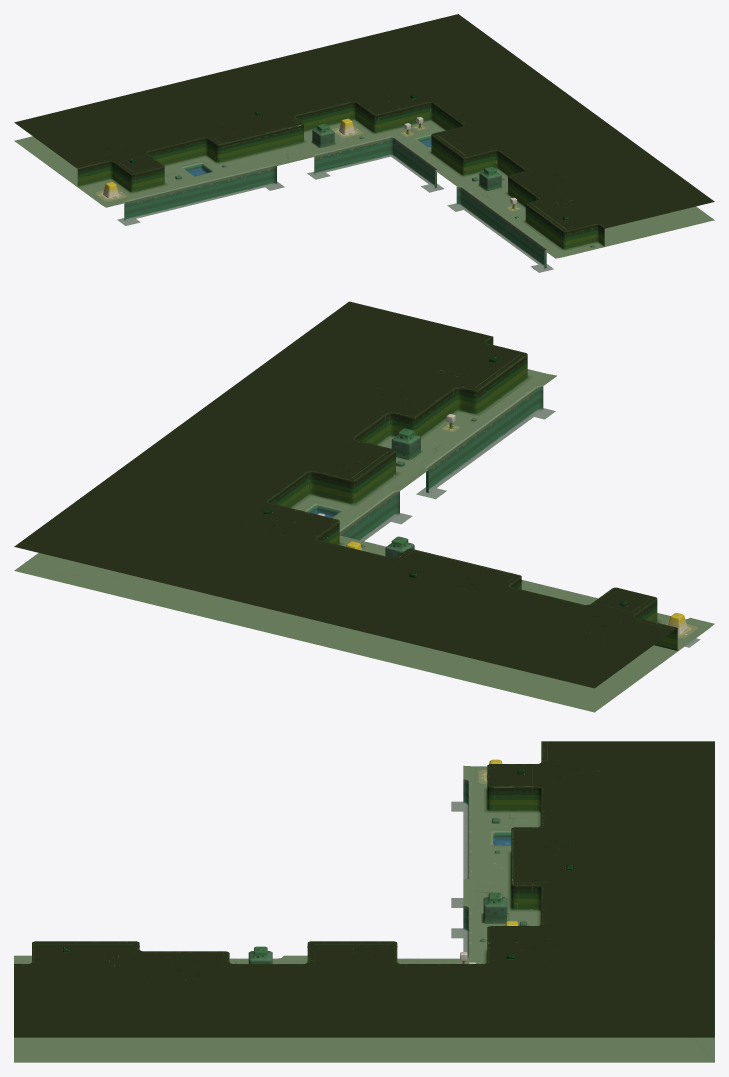
Rendered from C_cave2_out_LD.fbx.
The picture shows the model from 3 angles, top to bottom: view 1: azimuth 30°, elevation 25°; view 2: azimuth 150°, elevation 25°; view 3: azimuth 270°, elevation 25°; orthographic projection. The views are drawn at different scales.
Parts seen in each view (by area): view 1: C_cave2_out_LD.001; view 2: C_cave2_out_LD.001; view 3: C_cave2_out_LD.001.
Boxes of the visible parts, x1,y1,x2,y2 form: C_cave2_out_LD.001: (14, 14, 714, 272); C_cave2_out_LD.001: (14, 301, 714, 712); C_cave2_out_LD.001: (14, 741, 714, 1062).
Bounding box in the file's own units: 117 × 9.82 × 117.
Materials: 1 (1 with a texture image).
